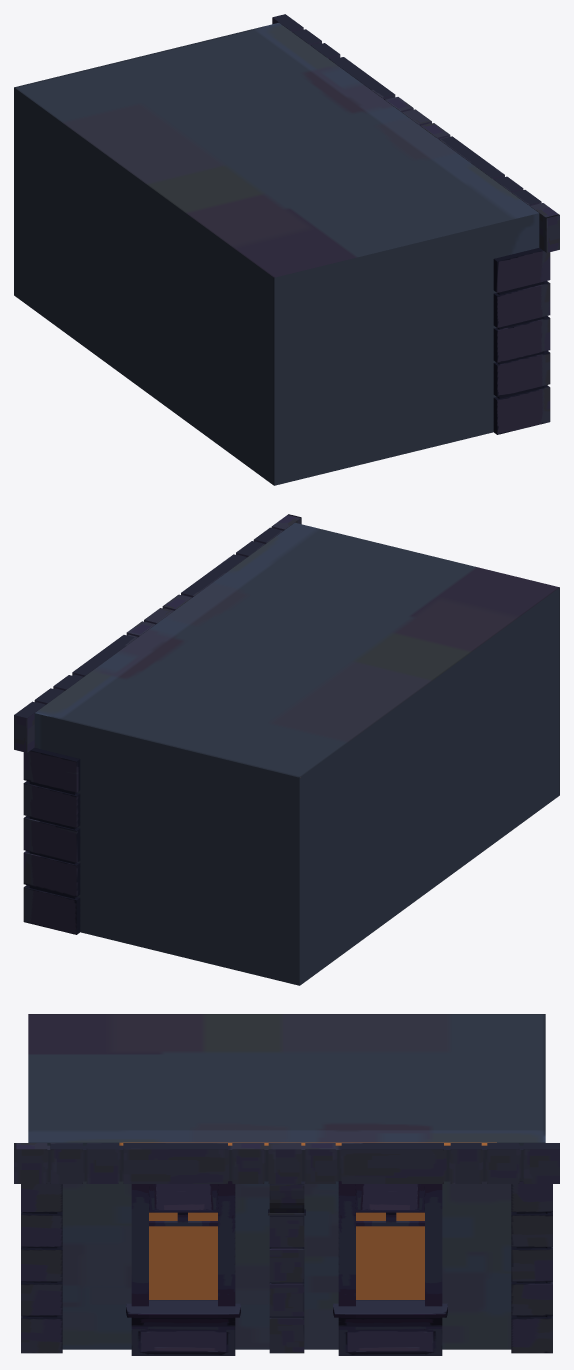
File: Batiment1_1etage.fbx
3 renders of one model, top to bottom at view 1: azimuth 30°, elevation 25°; view 2: azimuth 150°, elevation 25°; view 3: azimuth 270°, elevation 25°, orthographic.
Parts seen in each view (by area): view 1: Cube.005; view 2: Cube.005; view 3: Cube.005.
Boxes of the visible parts, box(x1,y1,x2,y2) form: Cube.005: box(14, 14, 559, 485); Cube.005: box(14, 514, 559, 985); Cube.005: box(14, 1014, 559, 1355).
Bounding box in the file's own units: 433 × 300 × 718.
